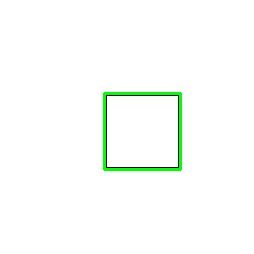line_segment: (103, 92, 182, 171)
